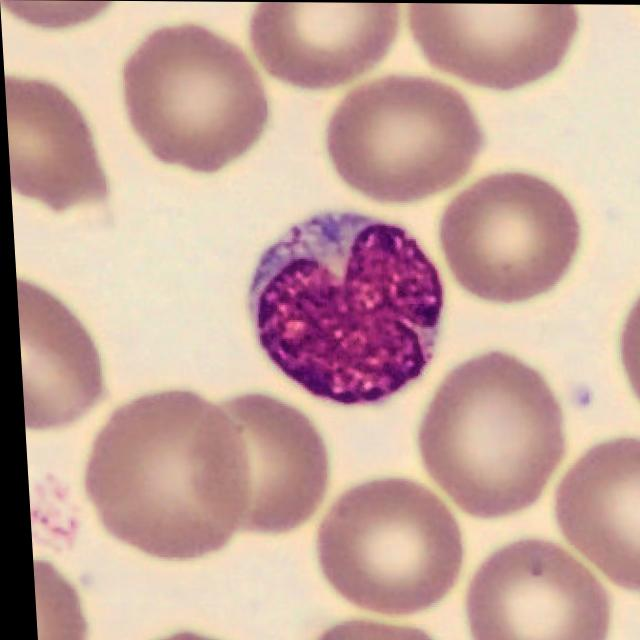Monocito: (251, 217, 439, 404)
